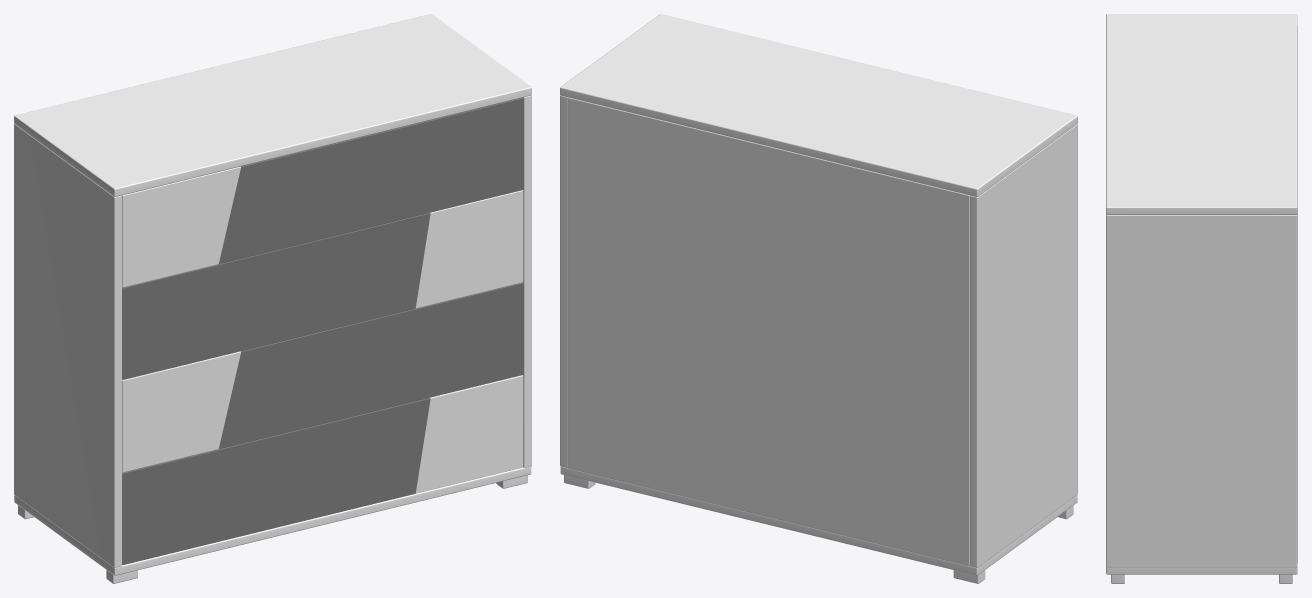
The model's file is cabinet_B07H8SSJVW.glb.
The picture shows the model from 3 angles, left to right: view 1: azimuth 30°, elevation 25°; view 2: azimuth 150°, elevation 25°; view 3: azimuth 270°, elevation 25°; orthographic projection. The views are drawn at different scales.
Visible parts, largest first — view 1: RootNode; view 2: RootNode; view 3: RootNode.
Part boxes in pixels (x1,y1,x2,y2): RootNode: [14, 14, 531, 583]; RootNode: [560, 14, 1077, 583]; RootNode: [1106, 14, 1297, 583].
Bounding box in the file's own units: 1.1 × 1 × 0.46.
Materials: 1 (1 with a texture image).
